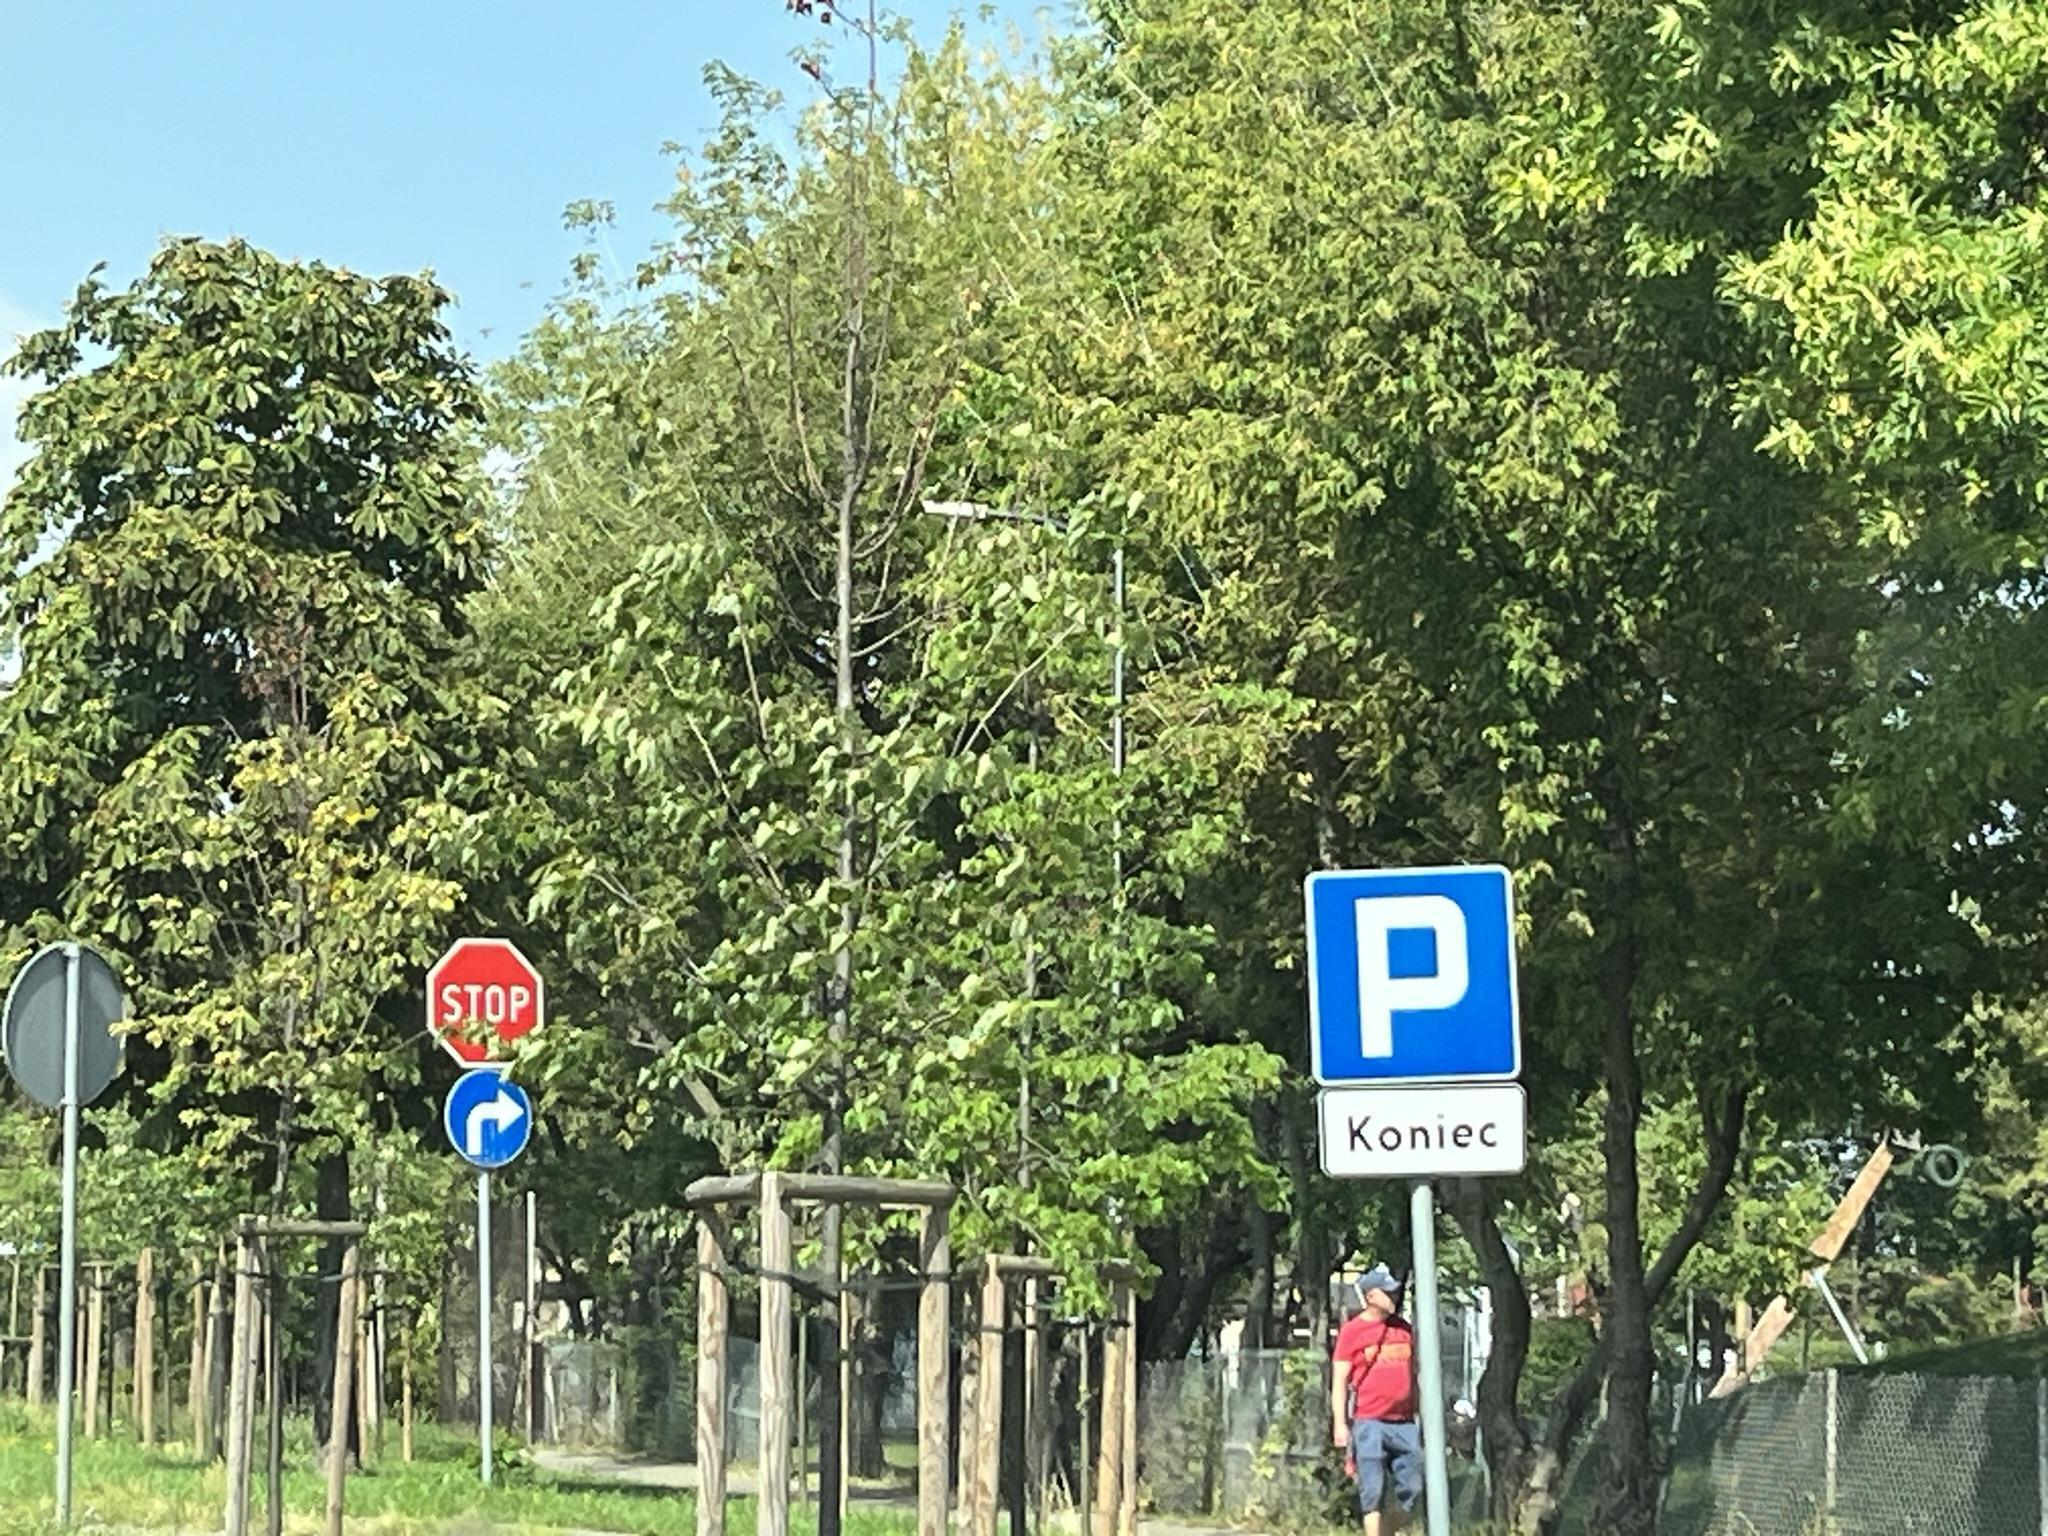information: (1308, 868, 1516, 1076)
mandatory: (443, 1068, 531, 1170)
other: (1322, 1087, 1522, 1175)
prohibitory: (427, 929, 542, 1068)
